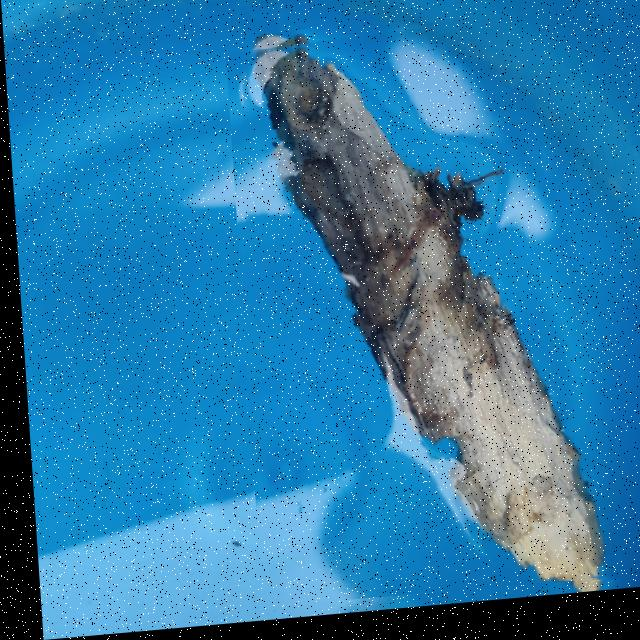wood: (223, 15, 627, 612)
